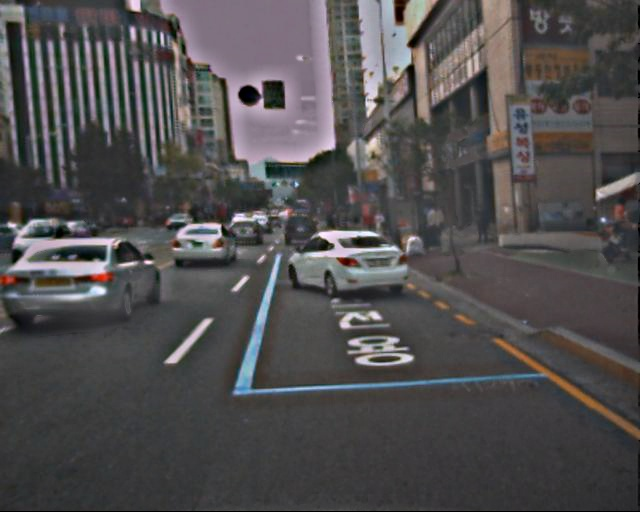person: (610, 198, 632, 252), (423, 201, 444, 253), (475, 205, 492, 247), (371, 208, 385, 243)
